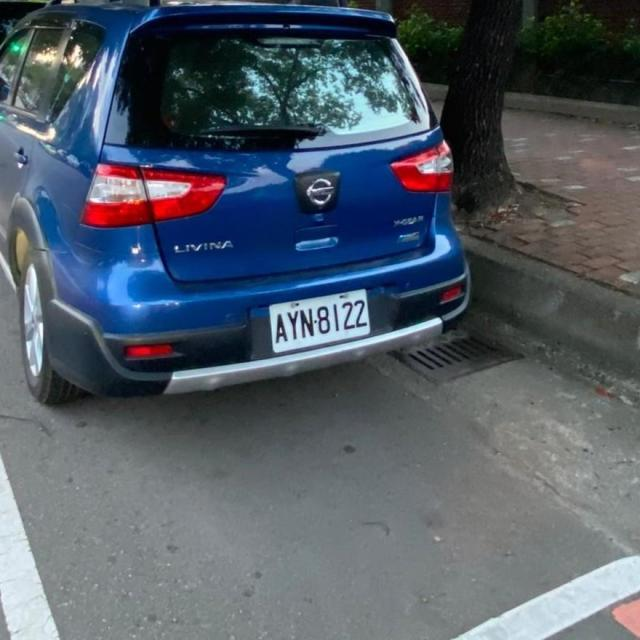W: (268, 288, 372, 352)
